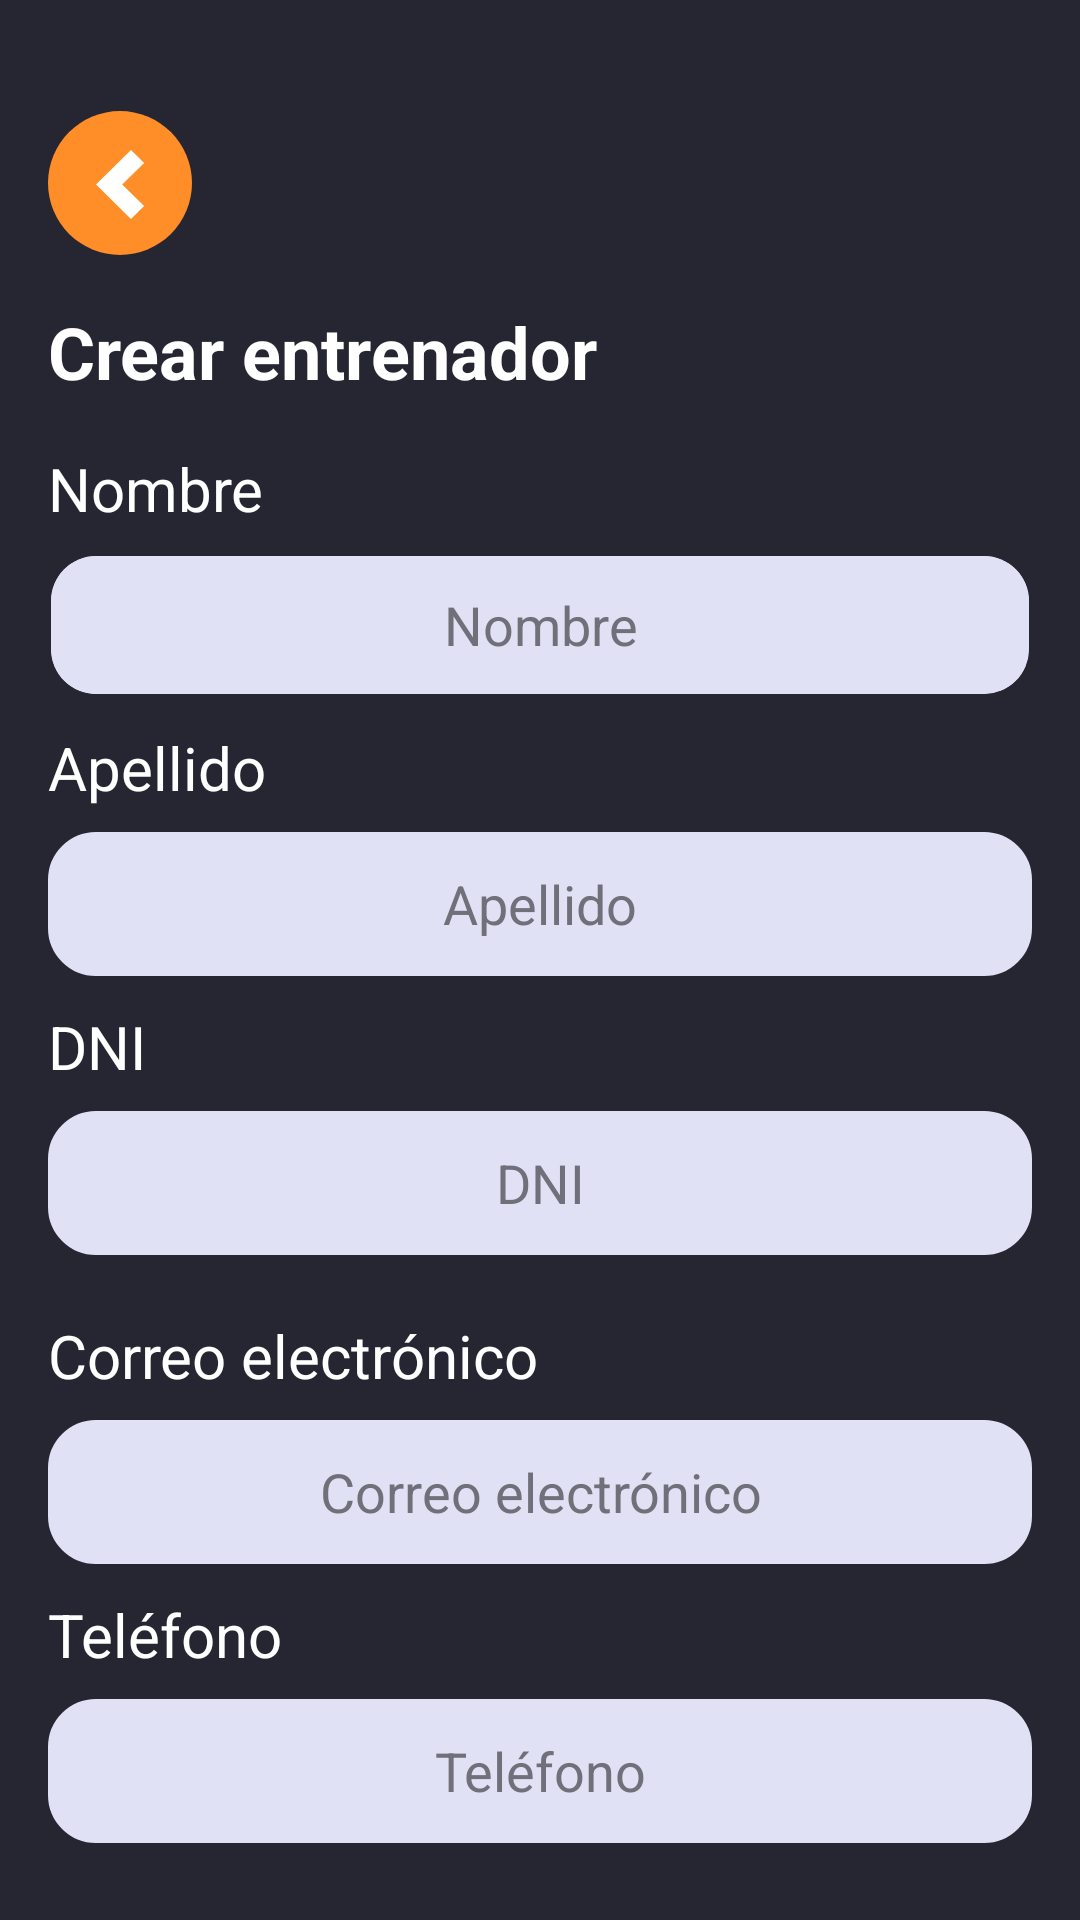

Point at icon controls on the screen. Image size 1080×1920, points as (x=x, y=y).
Volver: (x=120, y=183)
